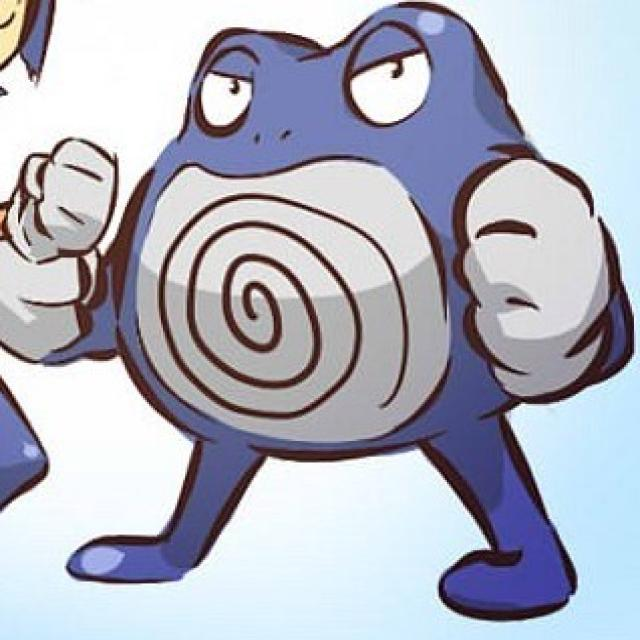Poliwrath: (91, 11, 564, 584)
